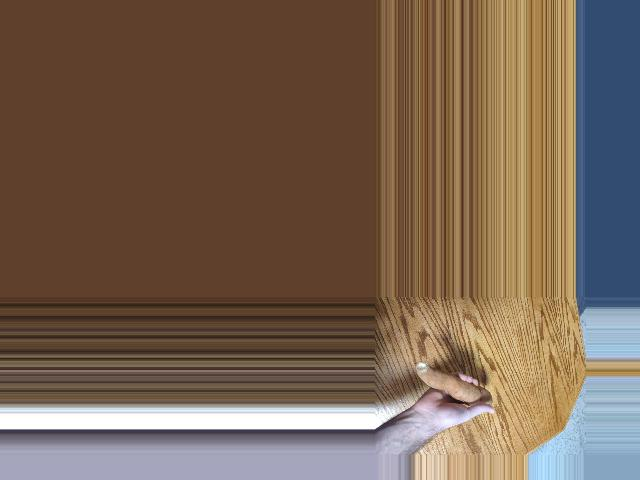sweet_potato: (412, 362, 488, 404)
